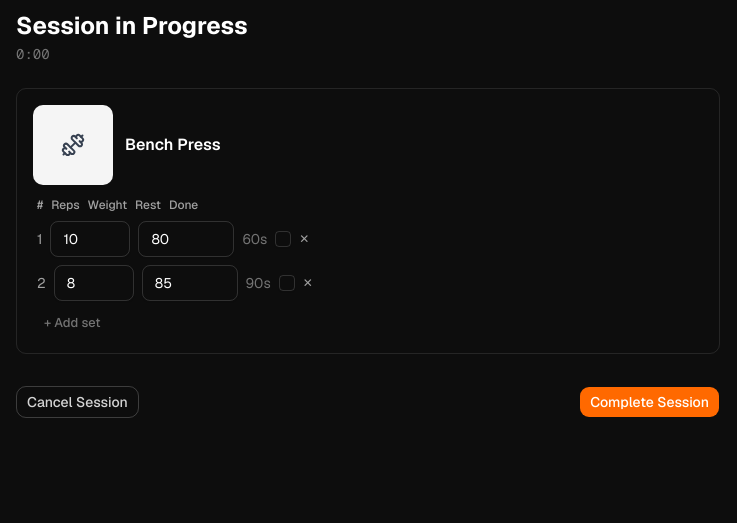
Scenario: WorkoutInProgressView — adding sets › clicking Add set twice creates unique positions (no duplicates)
Expected: the number of number fields is 4, [50,221,130,257]; [138,221,234,257]; [54,265,134,301]; [142,265,238,301]
Click the button "+ Add set" at (72, 323), box [33,309,111,337]
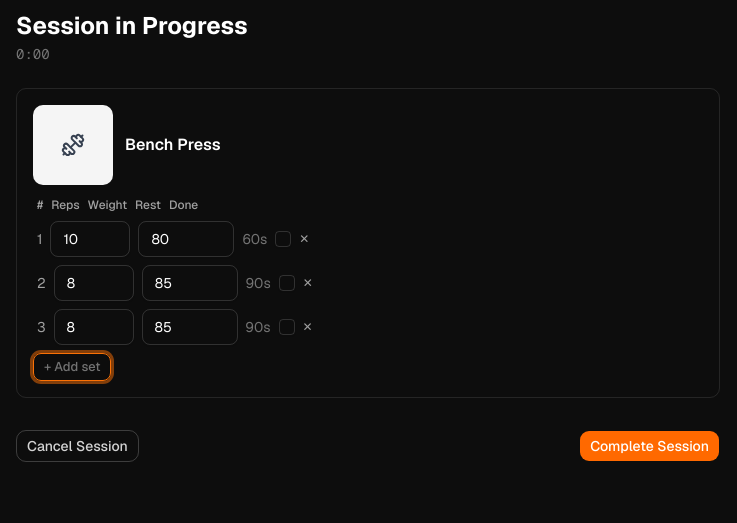
Click the button "+ Add set" at (72, 367), box [33,353,111,381]
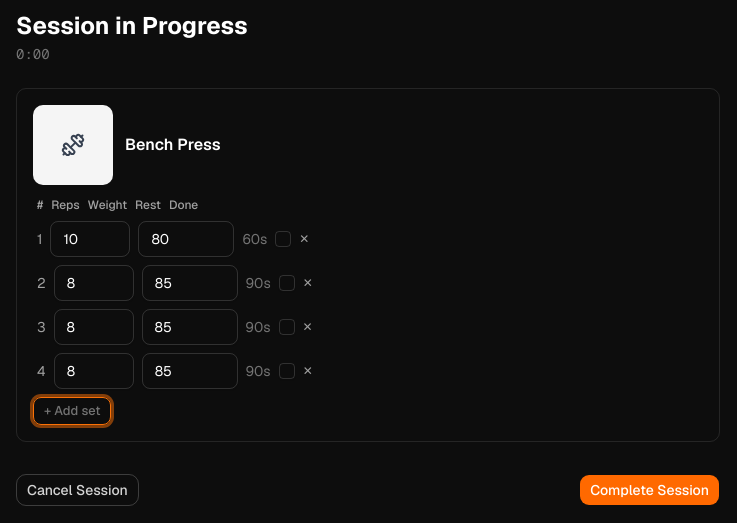
Now the number of number fields is 8
